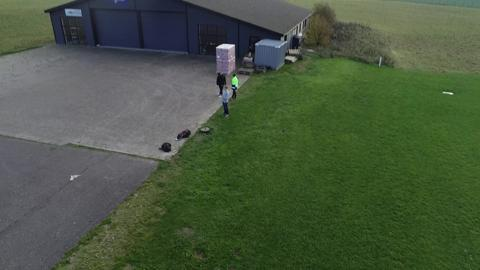RockwoolPallet: (215, 43, 237, 75)
